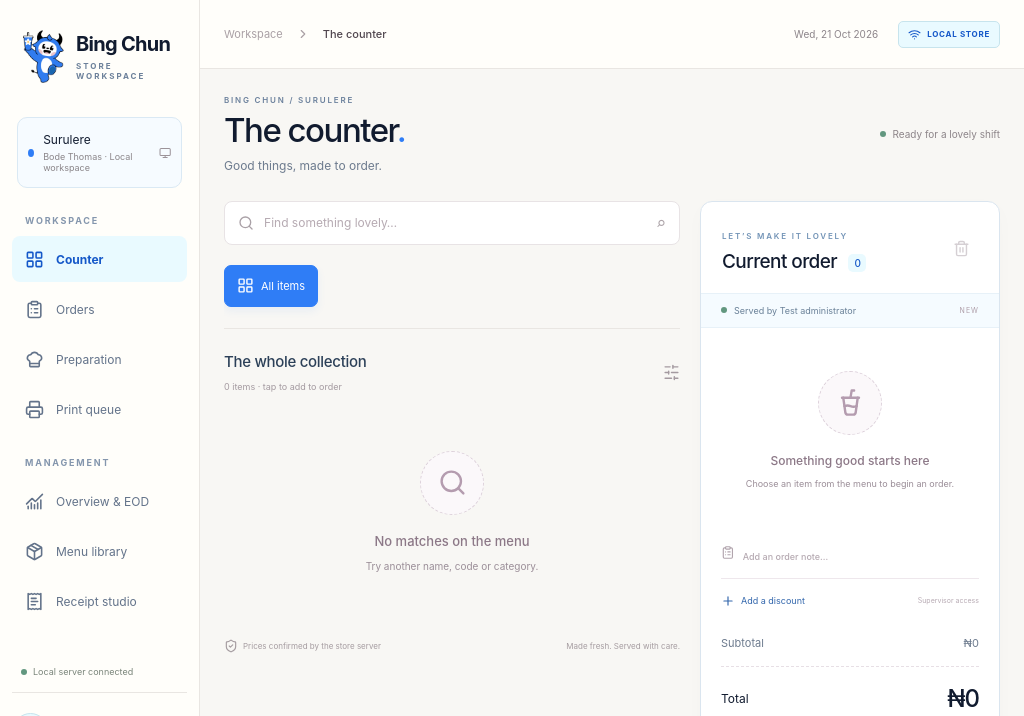
Test case: report fetch failures show a recoverable error instead of a blank report
The image size is (1024, 716).
Expected: the heading "The counter." is shown, x1=224 y1=112 x2=405 y2=150
Click the button "Overview & EOD": (100, 501) x1=12 y1=478 x2=187 y2=524
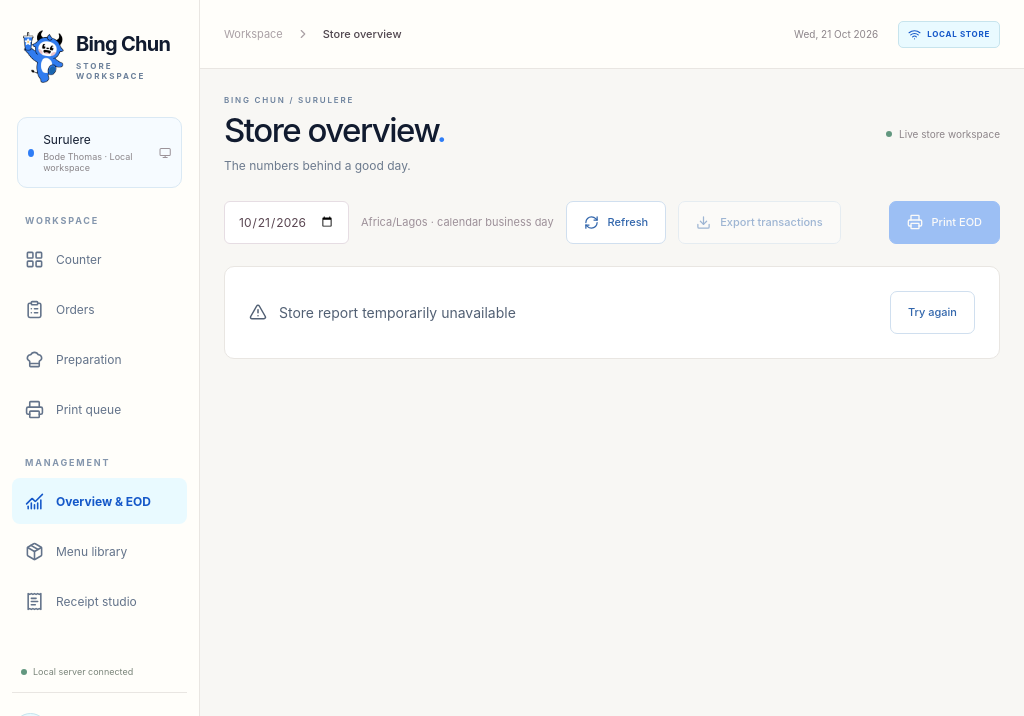
Now the message "Store report temporarily unavailable Try again" is shown, box x1=224 y1=266 x2=1000 y2=359
Now the text "Store report temporarily unavailable" is shown, box x1=279 y1=304 x2=516 y2=321
Click the button "Try again": (932, 312) x1=890 y1=291 x2=975 y2=334
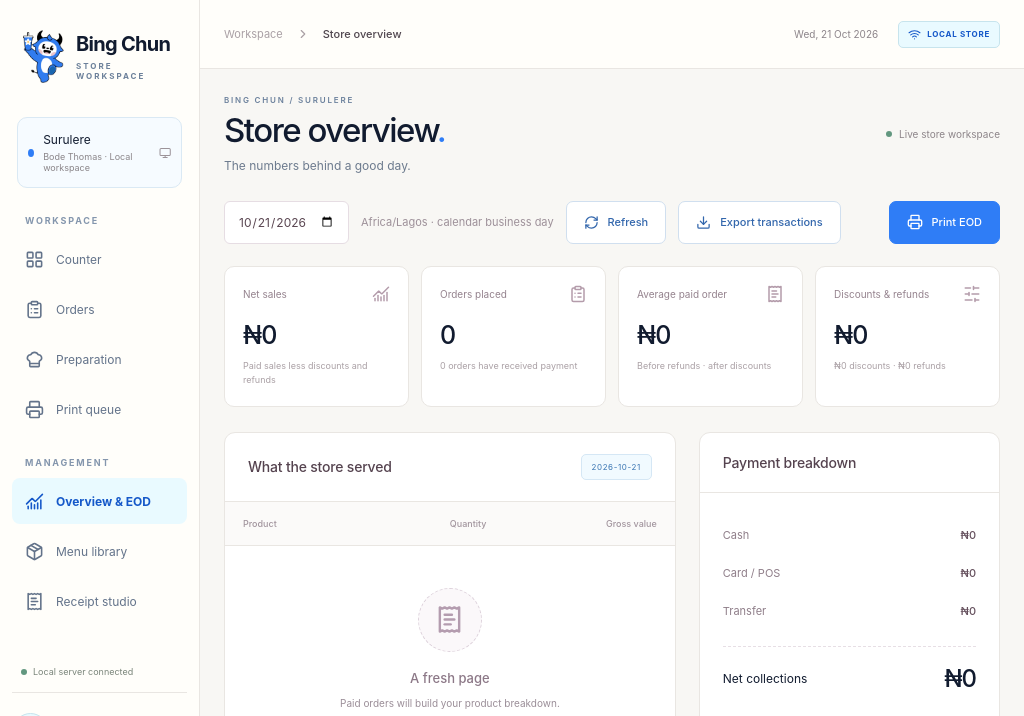
Now the heading "What the store served" is shown, box x1=248 y1=458 x2=392 y2=475
